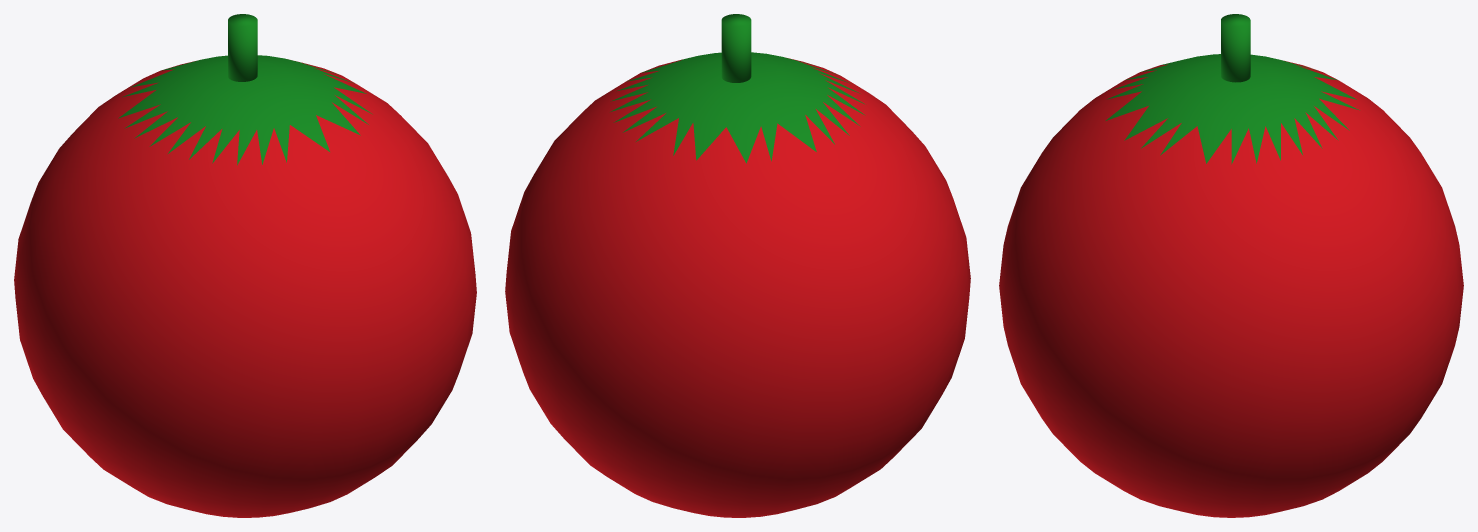
The model's file is tomato.fbx.
3 renders of one model, left to right at view 1: azimuth 30°, elevation 25°; view 2: azimuth 150°, elevation 25°; view 3: azimuth 270°, elevation 25°, orthographic.
Visible parts, largest first — view 1: Sphere; view 2: Sphere; view 3: Sphere.
Boxes of the visible parts, x1,y1,x2,y2 form: Sphere: (14,14,476,517); Sphere: (505,14,970,517); Sphere: (999,14,1463,517).
Bounding box in the file's own units: 200 × 226 × 200.
